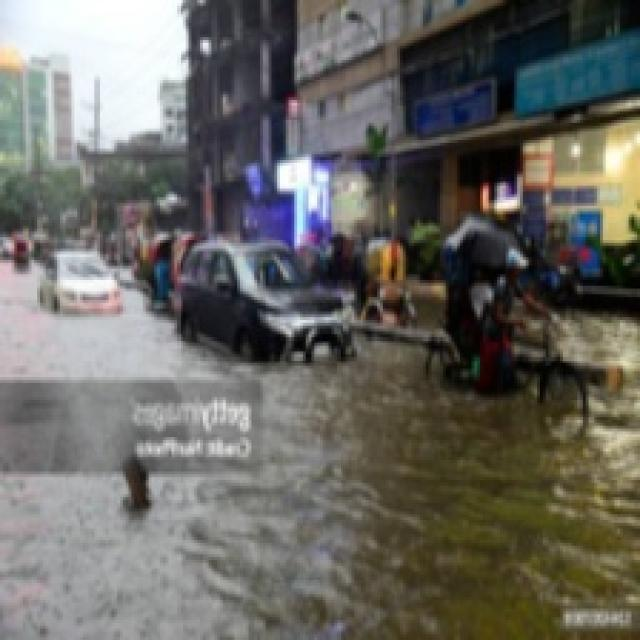car: (176, 244, 364, 364), (34, 225, 127, 324)
rickshaw: (430, 216, 591, 428), (355, 233, 415, 334)
